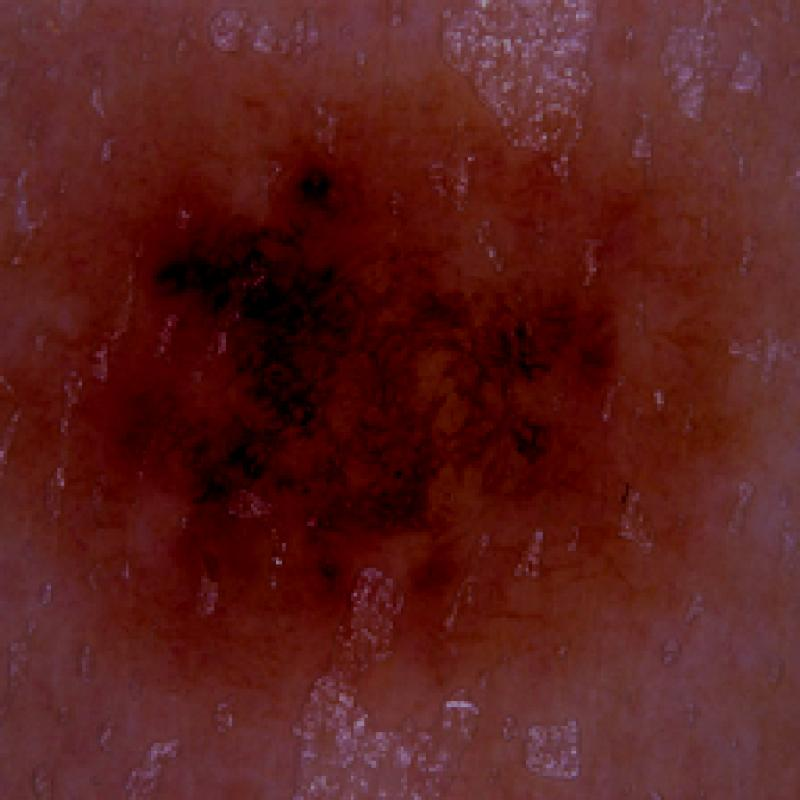benign: (103, 158, 660, 591)
